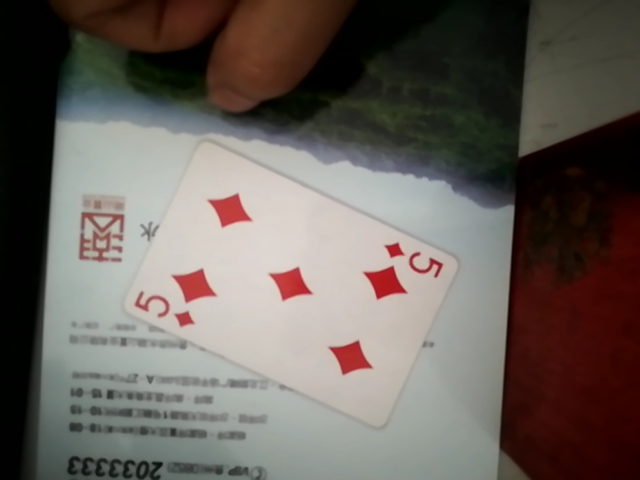fk 5: (117, 132, 474, 425)
